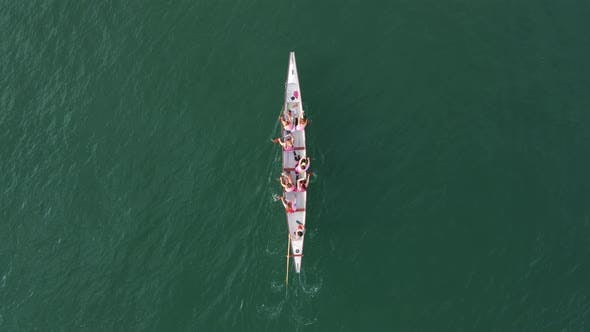kayaker: (269, 49, 315, 276)
